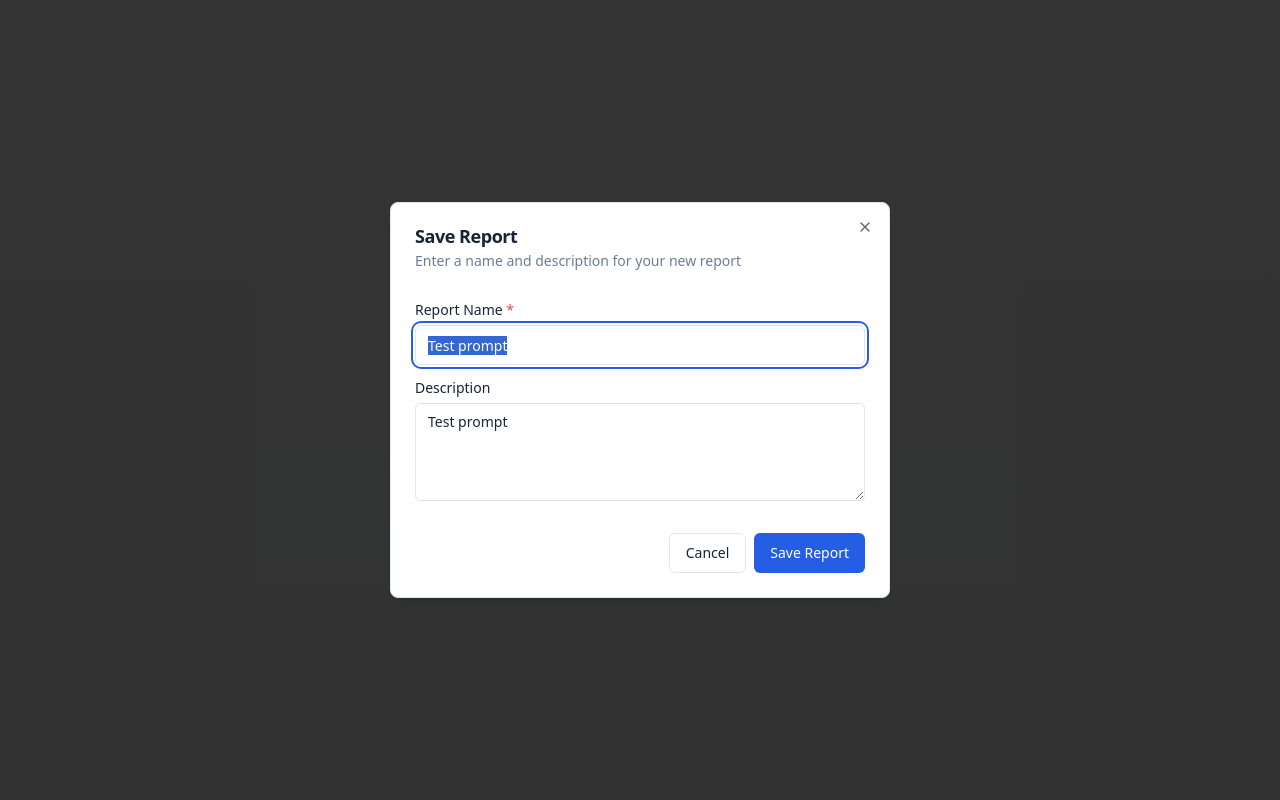
Test: SaveReportDialog › shows loading state while saving
Click the button "Save Report": (810, 553) [754, 533, 865, 573]
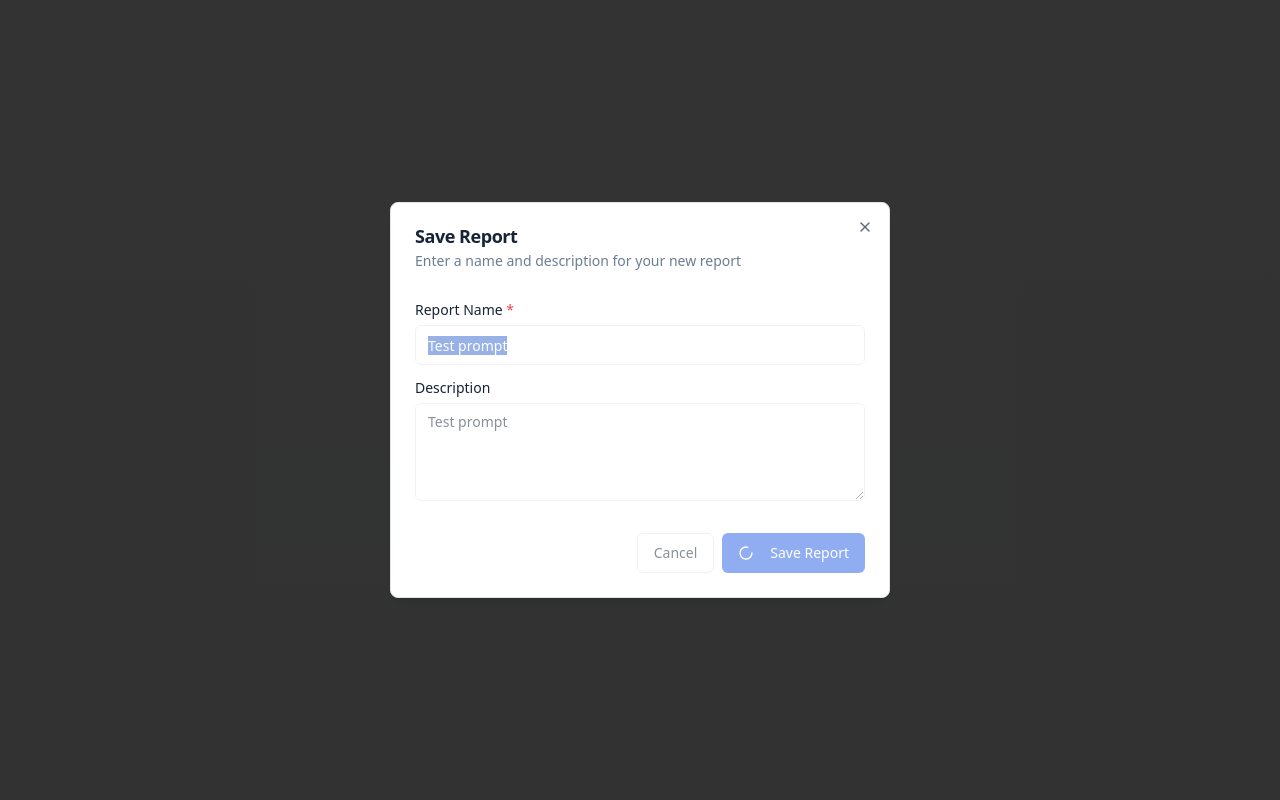
Expected: the button "Save Report" is disabled, [722, 533, 865, 573]
